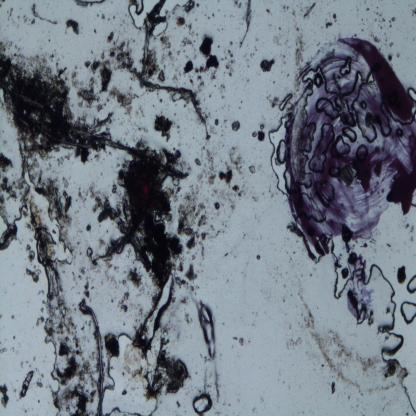Air bubble: (335, 265, 416, 416), (102, 335, 151, 414), (126, 0, 190, 33), (267, 114, 289, 204), (193, 392, 213, 414), (400, 301, 416, 324), (406, 275, 416, 295)
Background material: (0, 27, 74, 145), (298, 308, 368, 394), (99, 200, 148, 270), (30, 201, 74, 271), (140, 214, 182, 284), (53, 318, 80, 413), (151, 336, 191, 396), (174, 188, 211, 251), (0, 170, 27, 246), (194, 298, 218, 361), (69, 69, 102, 112), (198, 140, 219, 188), (45, 273, 66, 319), (76, 184, 104, 212), (198, 36, 219, 72), (110, 36, 134, 66), (153, 114, 175, 142), (228, 145, 246, 179), (293, 29, 306, 76), (35, 312, 56, 338), (158, 35, 176, 63), (18, 370, 34, 398), (98, 65, 112, 97), (186, 72, 205, 94), (117, 290, 133, 314), (104, 334, 122, 355), (214, 367, 224, 404), (126, 268, 144, 288), (63, 17, 80, 38), (224, 49, 237, 76), (251, 123, 267, 144), (259, 56, 277, 74), (322, 10, 340, 28), (86, 56, 103, 74), (230, 179, 245, 199), (394, 264, 408, 285), (183, 264, 199, 282), (180, 58, 195, 77), (218, 168, 234, 185), (177, 39, 193, 56), (25, 266, 42, 282), (372, 8, 384, 30), (284, 336, 302, 350), (0, 153, 14, 171), (0, 385, 10, 410), (304, 1, 317, 19), (81, 276, 91, 299), (87, 247, 97, 269), (107, 178, 119, 196), (231, 334, 245, 348), (73, 0, 104, 6), (181, 313, 194, 327), (108, 273, 121, 287), (202, 124, 211, 142), (247, 163, 258, 177), (370, 34, 382, 46), (83, 221, 92, 236), (26, 247, 36, 260), (60, 176, 70, 188), (388, 12, 398, 24), (178, 296, 190, 305), (190, 283, 198, 296), (19, 13, 29, 23), (106, 31, 115, 42), (231, 120, 240, 131), (78, 264, 87, 275), (386, 51, 394, 63), (0, 344, 8, 355), (8, 4, 13, 21), (214, 199, 222, 209), (212, 120, 220, 128), (120, 388, 128, 395), (210, 70, 216, 79), (121, 276, 126, 286), (195, 158, 202, 165), (10, 345, 16, 353), (36, 380, 42, 388), (175, 400, 181, 408), (220, 84, 225, 92), (40, 306, 46, 312), (20, 360, 24, 369), (11, 313, 16, 319), (195, 2, 200, 8), (32, 354, 36, 361), (110, 298, 114, 304), (94, 27, 97, 34), (102, 15, 106, 20), (257, 254, 260, 260), (211, 11, 214, 17), (13, 334, 16, 339), (230, 40, 233, 45), (42, 374, 44, 378)
Cellulose filter fibre: (17, 92, 190, 180), (114, 66, 208, 127), (78, 296, 104, 414), (140, 1, 167, 76), (237, 0, 253, 50), (30, 4, 61, 25)
Fragment: (127, 159, 169, 217)
Pen: (283, 31, 416, 254)
